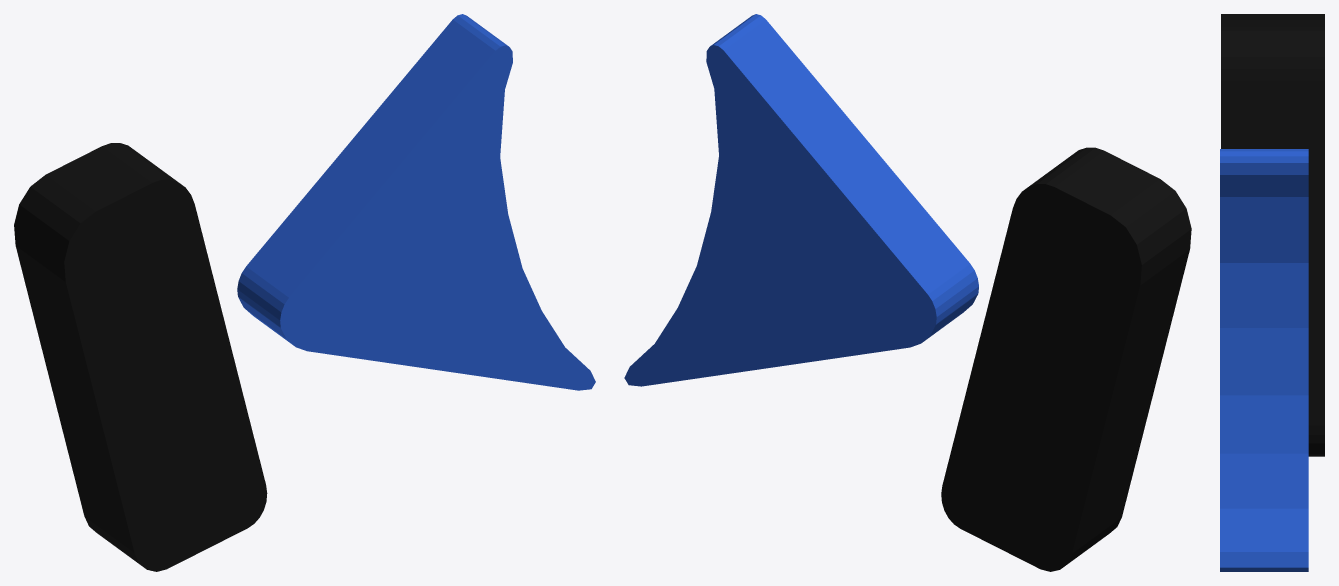
Rendered from kait.fbx.
3 renders of one model, left to right at view 1: azimuth 30°, elevation 25°; view 2: azimuth 150°, elevation 25°; view 3: azimuth 270°, elevation 25°, orthographic. The views are drawn at different scales.
Visible parts, largest first — view 1: Plane, Plane.001; view 2: Plane, Plane.001; view 3: Plane.001, Plane.
Boxes of the visible parts, x1,y1,x2,y2 form: Plane: (14, 143, 267, 571); Plane.001: (237, 14, 595, 390); Plane: (941, 147, 1191, 571); Plane.001: (624, 14, 978, 386); Plane.001: (1220, 149, 1308, 571); Plane: (1221, 14, 1324, 456).
Bounding box in the file's own units: 169 × 135 × 28.01.
